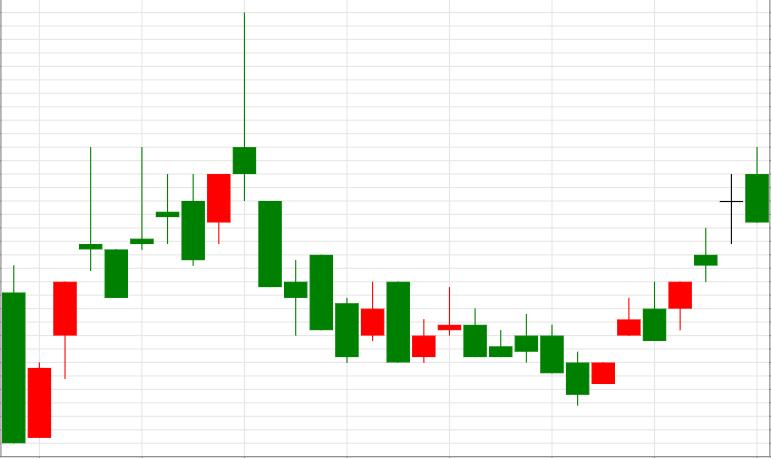shooting_star_fall: (104, 13, 256, 298)
